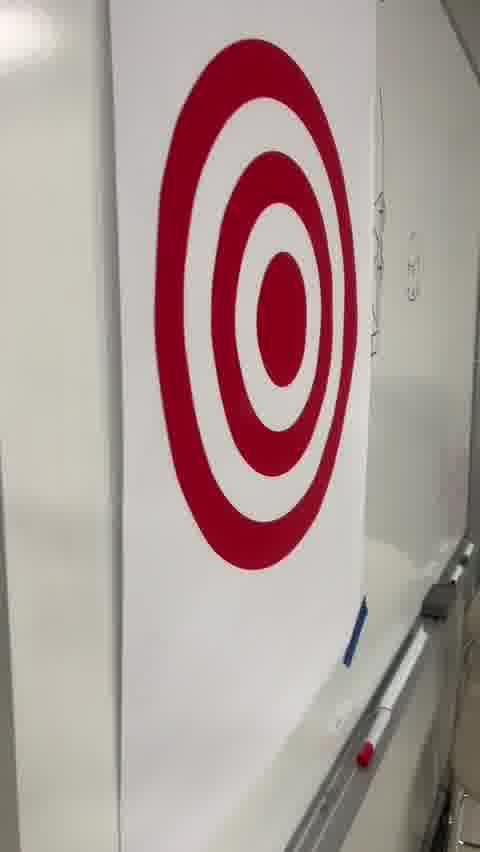target_red: (157, 39, 359, 572)
